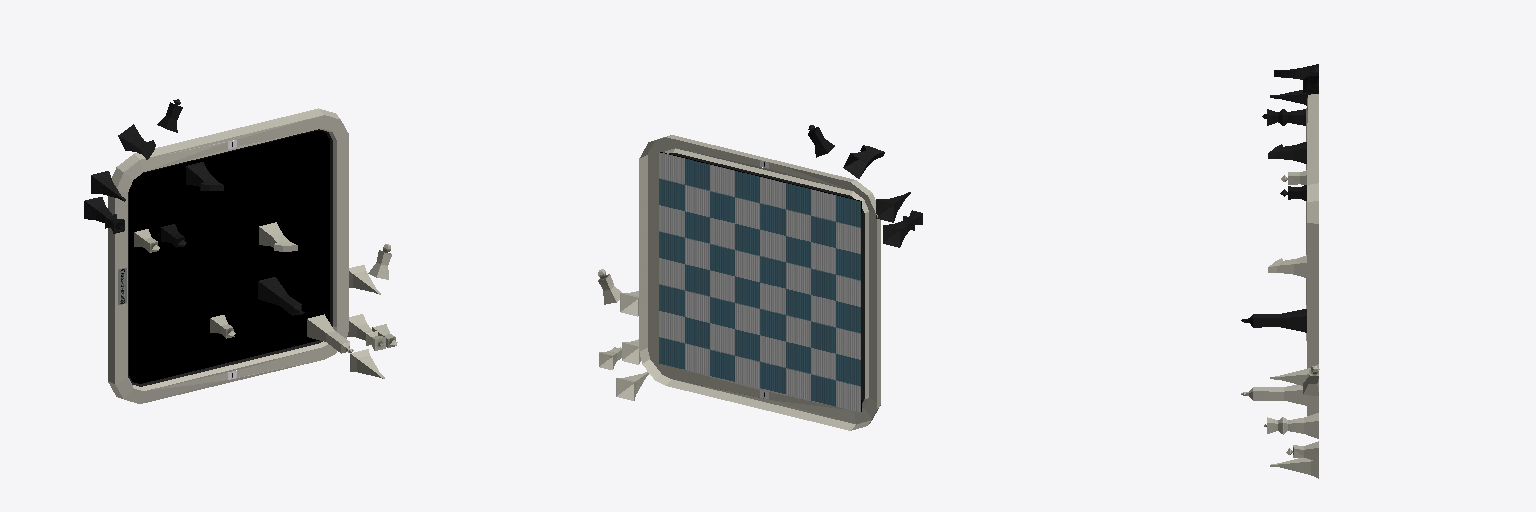
3 renders of one model, left to right at view 1: azimuth 30°, elevation 25°; view 2: azimuth 150°, elevation 25°; view 3: azimuth 270°, elevation 25°, orthographic.
Visible parts, largest first — view 1: com_glass_clear, mtl_nt_2025_chess_board; view 2: mtl_nt_2025_chess_board; view 3: mtl_nt_2025_chess_board.
Boxes of the visible parts, <box> form: com_glass_clear: <box>129,131,329,383</box>; mtl_nt_2025_chess_board: <box>84,99,397,403</box>; mtl_nt_2025_chess_board: <box>598,125,922,430</box>; mtl_nt_2025_chess_board: <box>1241,64,1319,478</box>.
Size of the model in its own units: 63.79 by 63.7 by 14.4.
Materials: 2 (1 with a texture image).